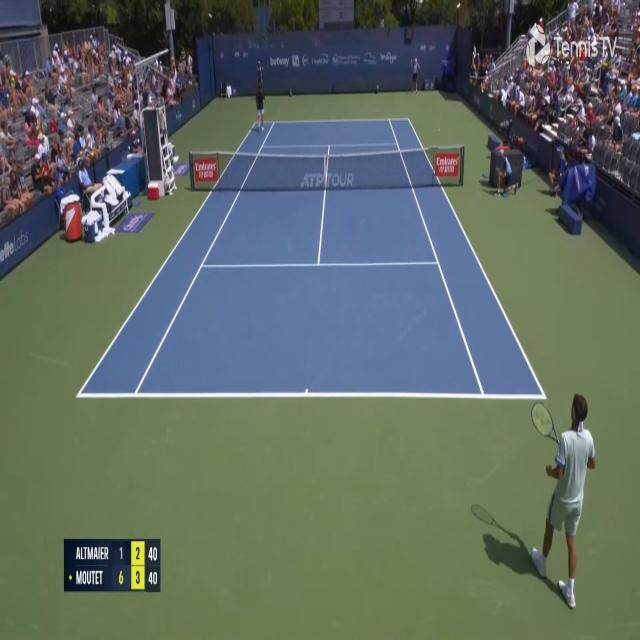tennis-player: (523, 390, 598, 617), (251, 80, 268, 135)
